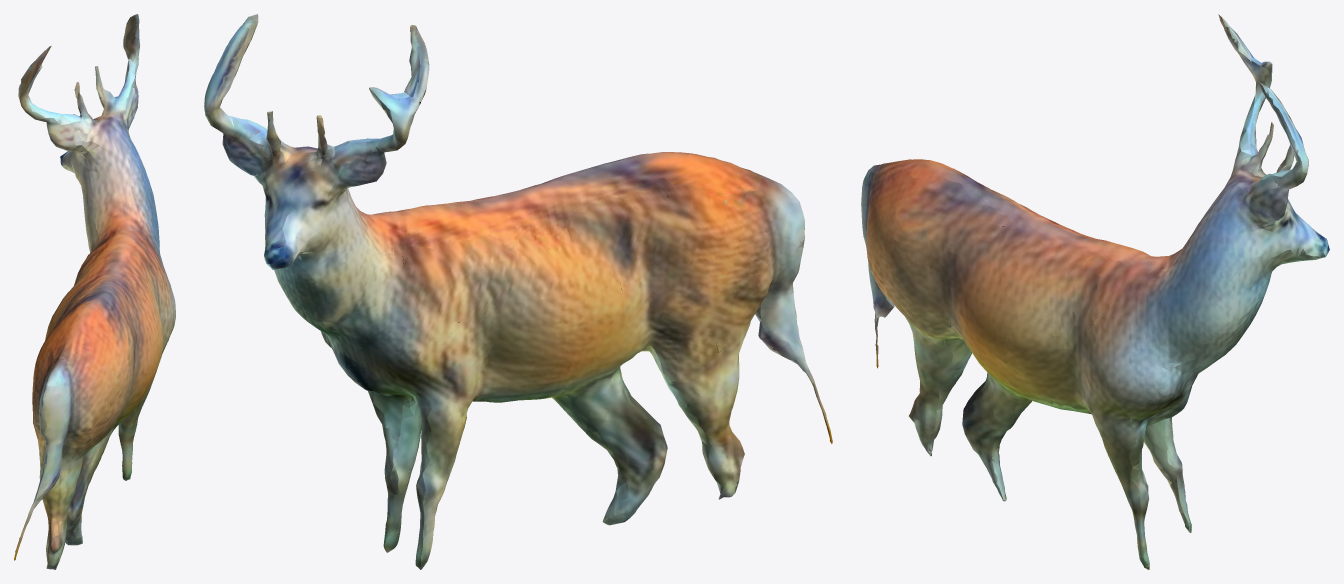
Rendered from SPAR3D_result_20250709_160324.glb.
3 views of the same model, side by side, from view 1: azimuth 30°, elevation 25°; view 2: azimuth 150°, elevation 25°; view 3: azimuth 270°, elevation 25° (orthographic). The views are drawn at different scales.
Visible parts, largest first — view 1: world; view 2: world; view 3: world.
Part boxes in pixels (x1,y1,x2,y2): world: (14, 14, 175, 569); world: (204, 14, 832, 569); world: (861, 14, 1329, 569).
Bounding box in the file's own units: 0.6786 × 0.9303 × 0.7506.
1 material, 1 textured.
